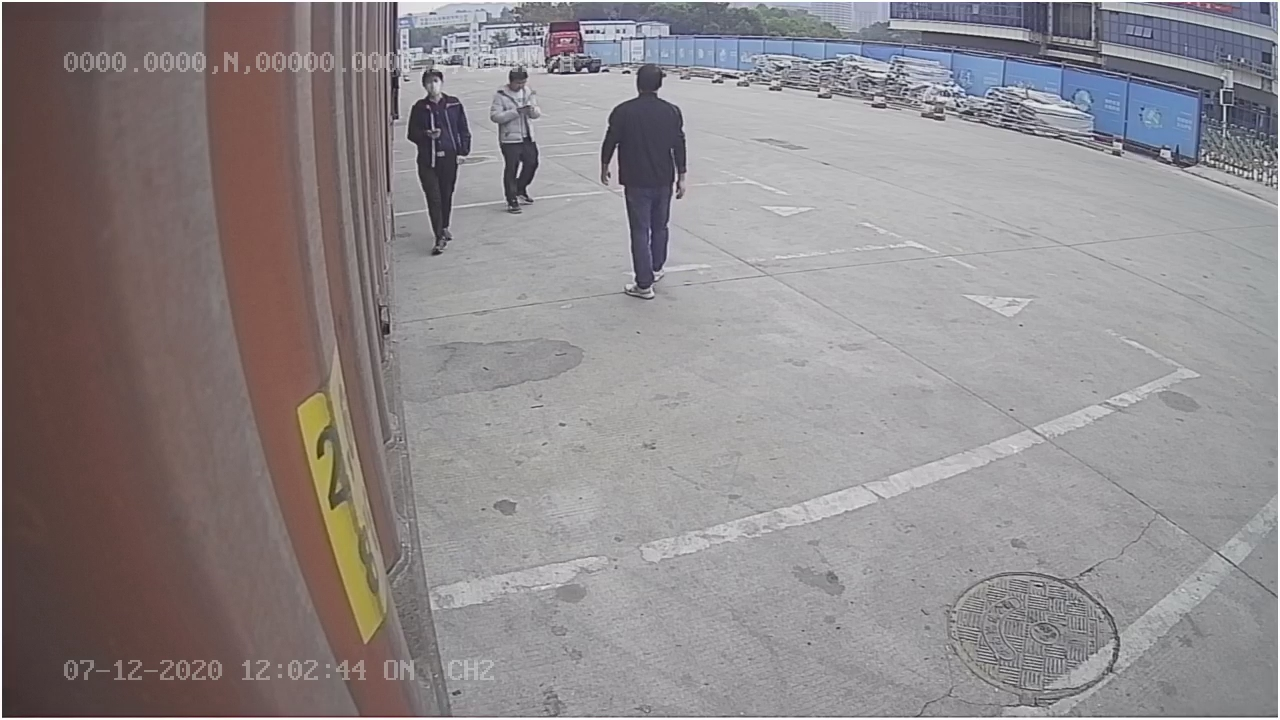person: (604, 59, 687, 301)
